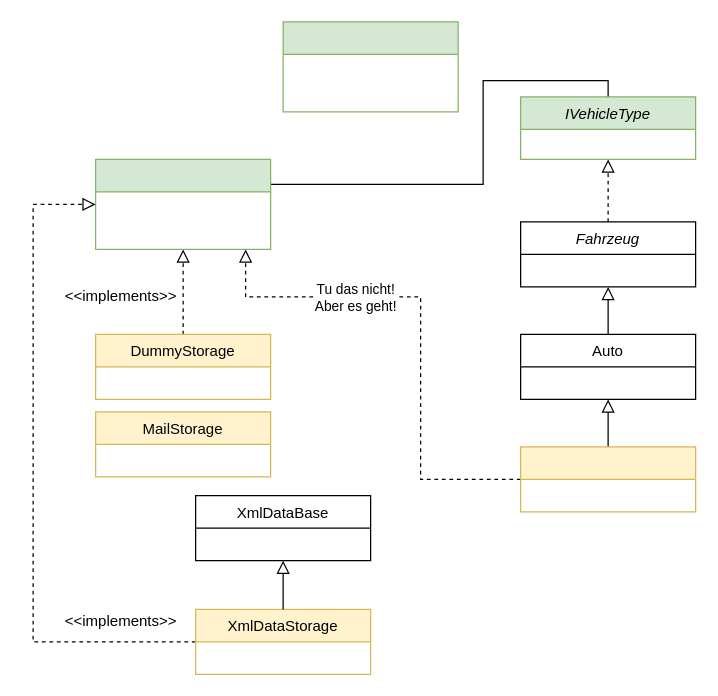
Image size: 718x696. Some labels were removed from this diagram. Here are the shapes that lost their labels. From the top down, the centre of each, then its label:
(x=370, y=66): StorageBase
(x=182, y=203): IStorageBase
(x=607, y=479): Sportwagen
